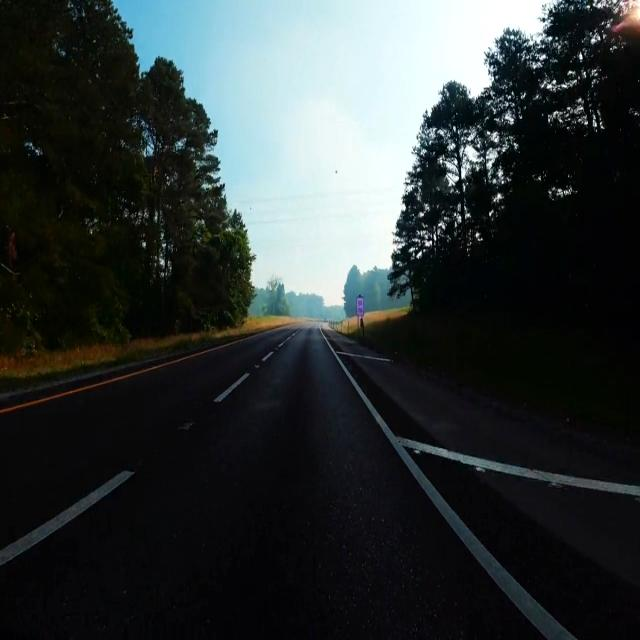road: (0, 327, 538, 637), (423, 459, 640, 636)
